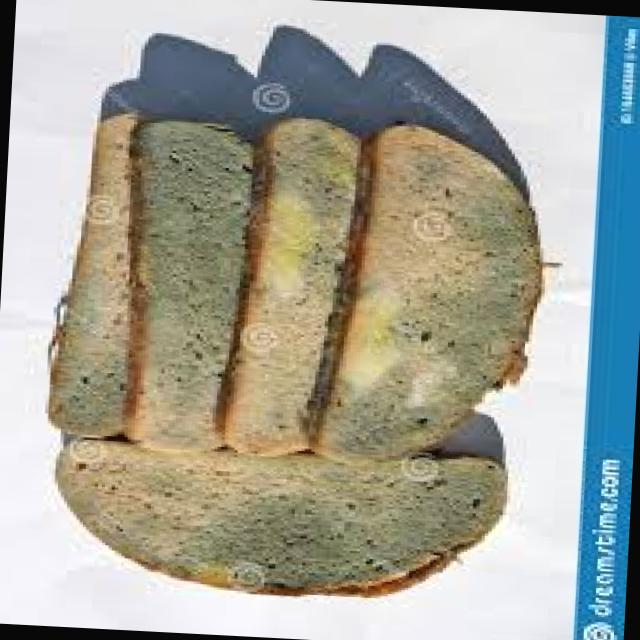organic: (72, 63, 550, 590)
